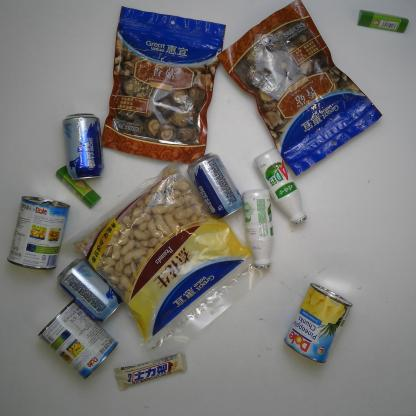Alcohol: (57, 258, 123, 322), (187, 154, 243, 220), (60, 110, 104, 182)
Canned Food: (37, 299, 118, 380), (283, 280, 353, 366), (6, 195, 70, 269)
Chocolate: (110, 352, 188, 390)
Dried Food: (63, 158, 266, 358), (215, 0, 384, 176), (100, 5, 228, 166)
Milk: (253, 147, 306, 226), (242, 187, 274, 270)
Stationery: (54, 163, 100, 209), (356, 7, 408, 31)
